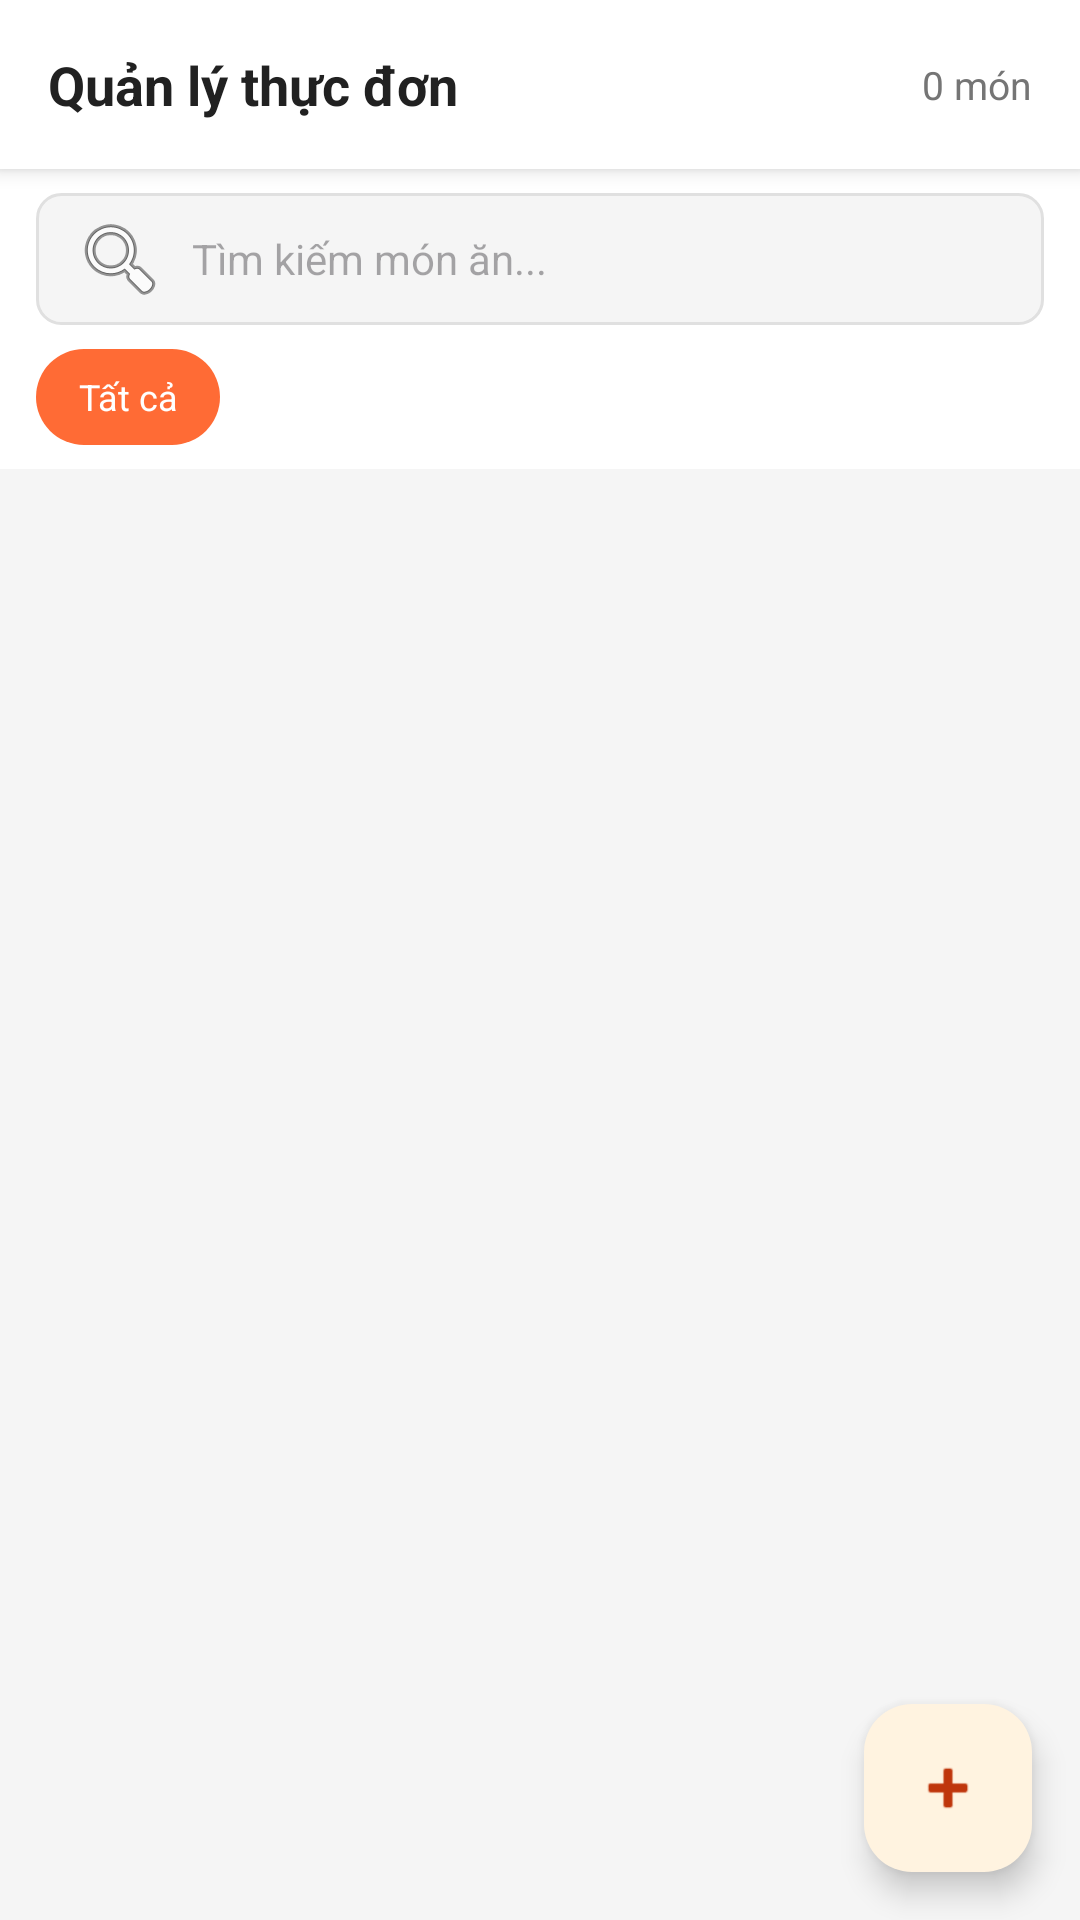

Icon bounding boxes for this 1080 × 1920 phone screenshot, format (x1, y1, x2, y2):
Thêm món ăn: (864, 1704, 1032, 1872)
